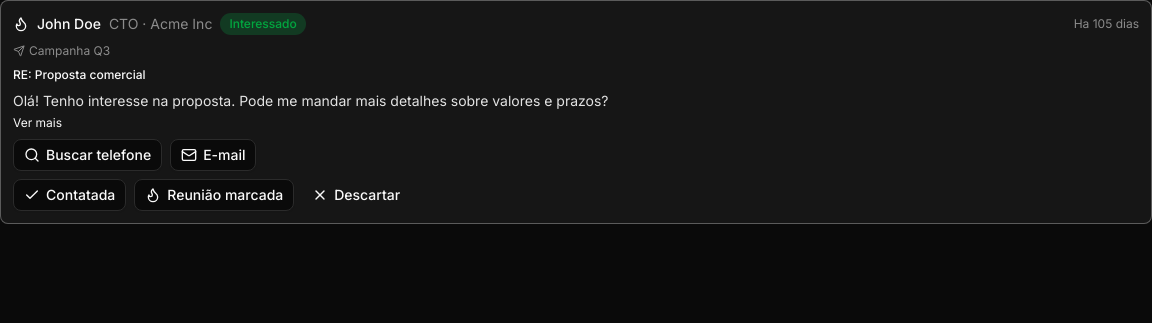
Test: OpportunityCard › Expand/collapse do reply_text (AC2) › should start collapsed (line-clamp) and expand on 'Ver mais'
The width and height of the screenshot is (1152, 323).
Click the button with test id "opportunity-toggle-expand" at (38, 123), box [13,115,62,131]
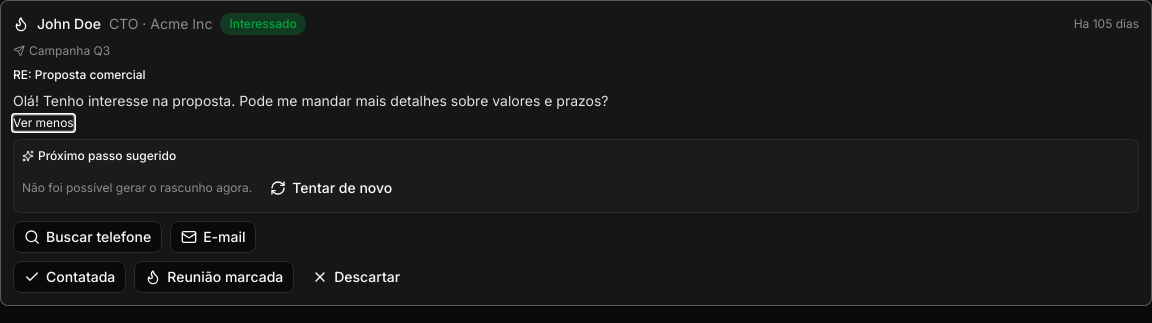
Expected: the button with test id "opportunity-toggle-expand" reads "Ver menos", [13,115,74,131]
